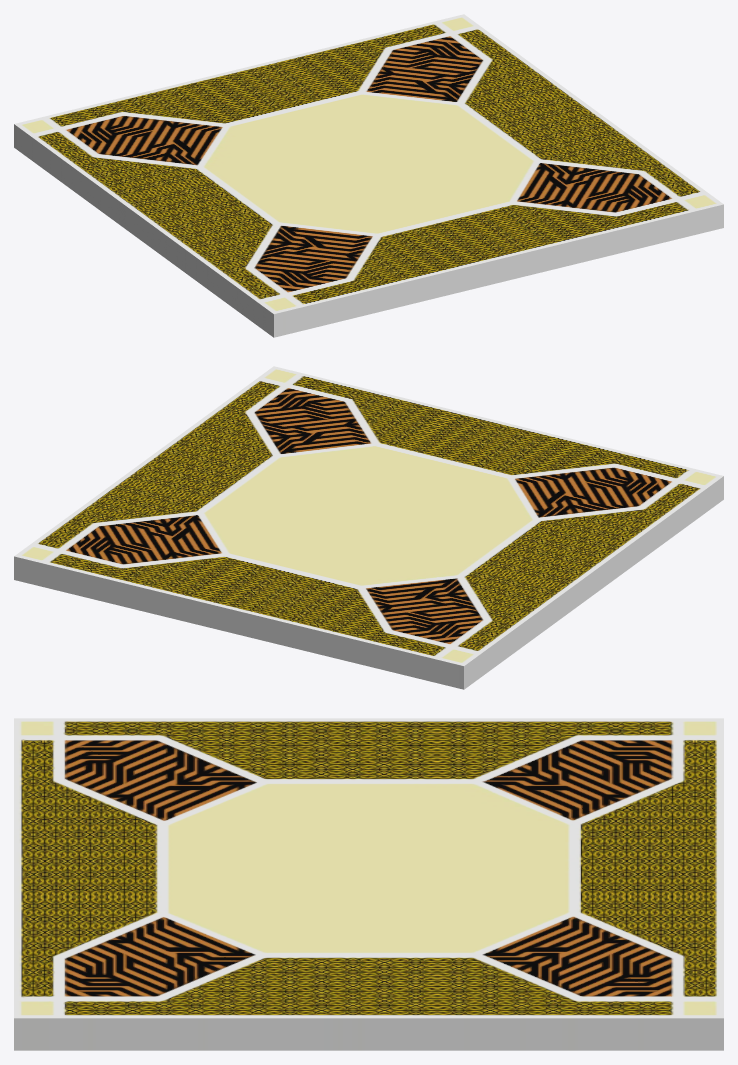
Rendered from checkpoint.glb.
3 renders of one model, top to bottom at view 1: azimuth 30°, elevation 25°; view 2: azimuth 150°, elevation 25°; view 3: azimuth 270°, elevation 25°, orthographic. The views are drawn at different scales.
Parts seen in each view (by area): view 1: Gold Track Checkpoint; view 2: Gold Track Checkpoint; view 3: Gold Track Checkpoint.
Part boxes in pixels (x1,y1,x2,y2): Gold Track Checkpoint: [14, 14, 723, 337]; Gold Track Checkpoint: [14, 366, 723, 689]; Gold Track Checkpoint: [14, 718, 723, 1050].
Bounding box in the file's own units: 3.53 × 0.1762 × 3.53.
Materials: 1 (1 with a texture image).
